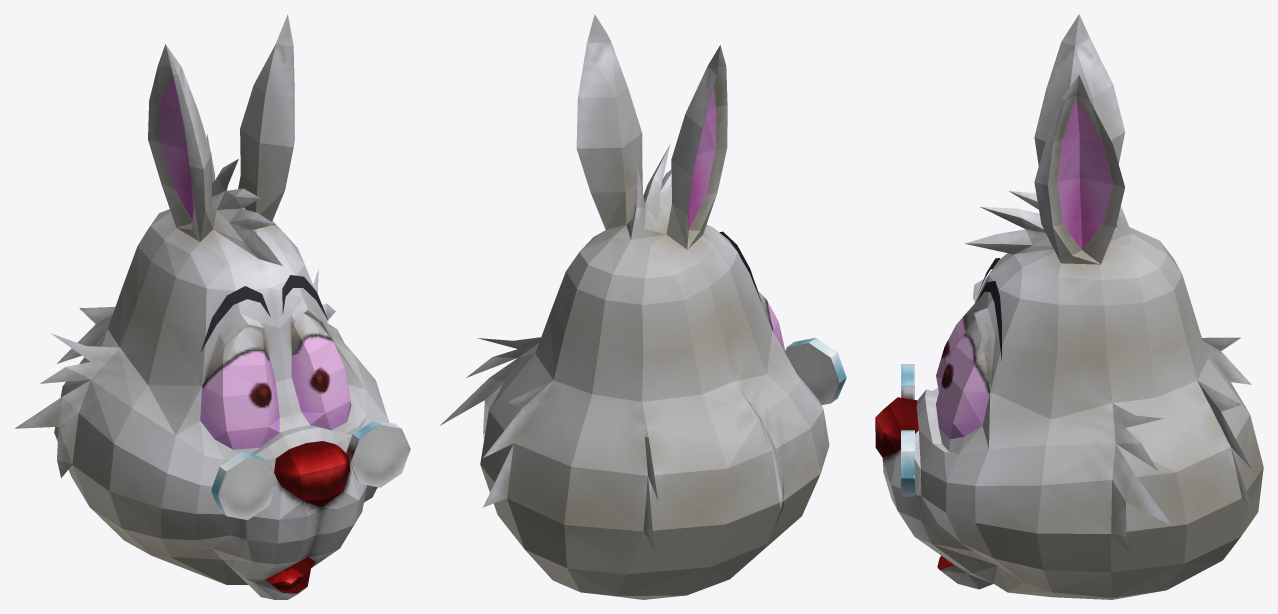
File: WhiteRabbitHead.obj
The picture shows the model from 3 angles, left to right: view 1: azimuth 30°, elevation 25°; view 2: azimuth 150°, elevation 25°; view 3: azimuth 270°, elevation 25°; orthographic projection. The views are drawn at different scales.
Visible parts, largest first — view 1: Mesh_rdmobj02.001; view 2: Mesh_rdmobj02.001; view 3: Mesh_rdmobj02.001.
Part boxes in pixels (x1,y1,x2,y2): Mesh_rdmobj02.001: (15, 14, 410, 599); Mesh_rdmobj02.001: (440, 14, 846, 599); Mesh_rdmobj02.001: (875, 14, 1263, 599).
Bounding box in the file's own units: 27.09 × 41.38 × 26.94.
